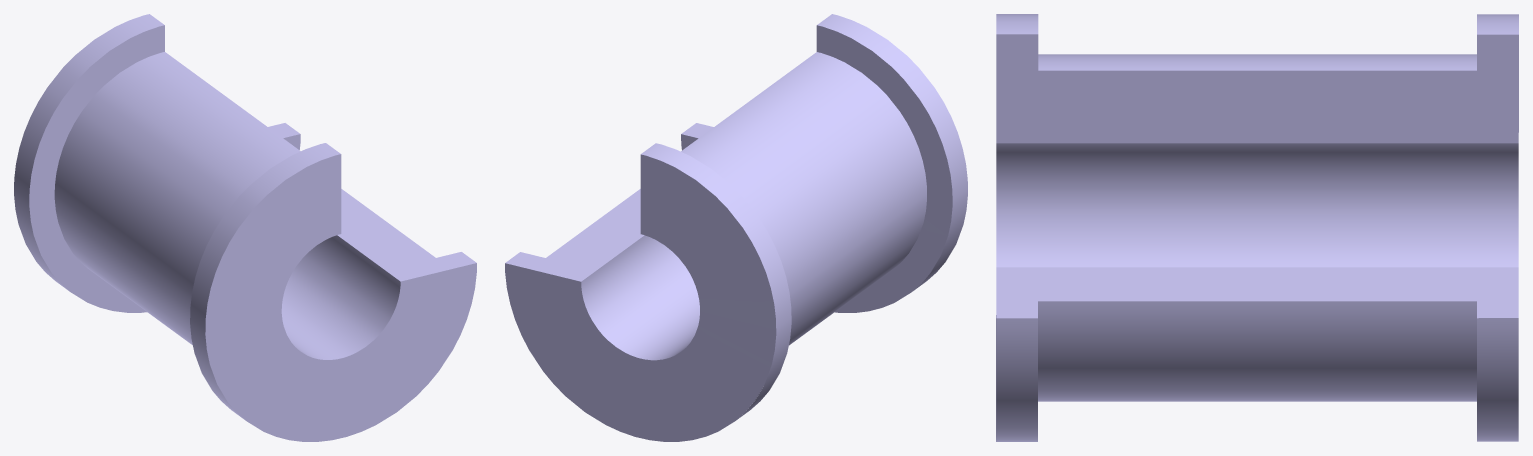
File: calorimeter-lar-barrel-cut-3.glb
The picture shows the model from 3 angles, left to right: view 1: azimuth 30°, elevation 25°; view 2: azimuth 150°, elevation 25°; view 3: azimuth 270°, elevation 25°; orthographic projection. The views are drawn at different scales.
Parts seen in each view (by area): view 1: lar_barrel.003; view 2: lar_barrel.003; view 3: lar_barrel.003.
Part boxes in pixels (box(x1,y1,x2,y2)): lar_barrel.003: box(14, 14, 476, 441); lar_barrel.003: box(505, 14, 967, 441); lar_barrel.003: box(996, 14, 1518, 441).
Size of the model in its own units: 5.56 by 5.56 by 6.79.
